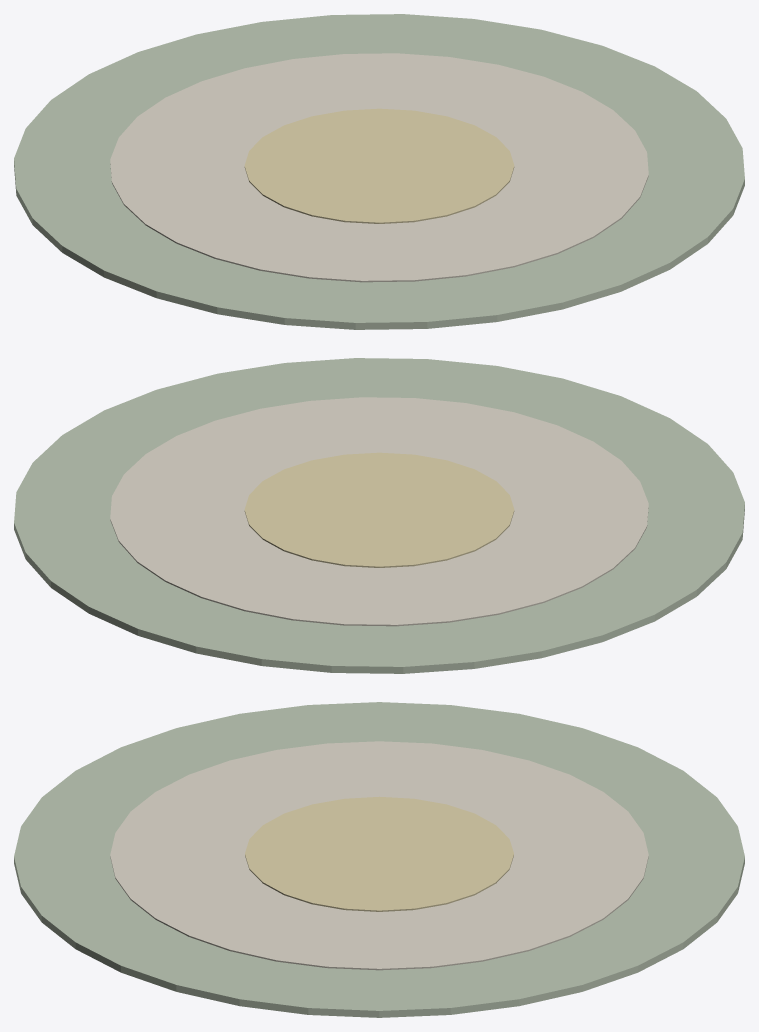
File: furn_rug_round__sage.glb
3 renders of one model, top to bottom at view 1: azimuth 30°, elevation 25°; view 2: azimuth 150°, elevation 25°; view 3: azimuth 270°, elevation 25°, orthographic.
Bounding box in the file's own units: 1.9 × 0.028 × 1.9.
